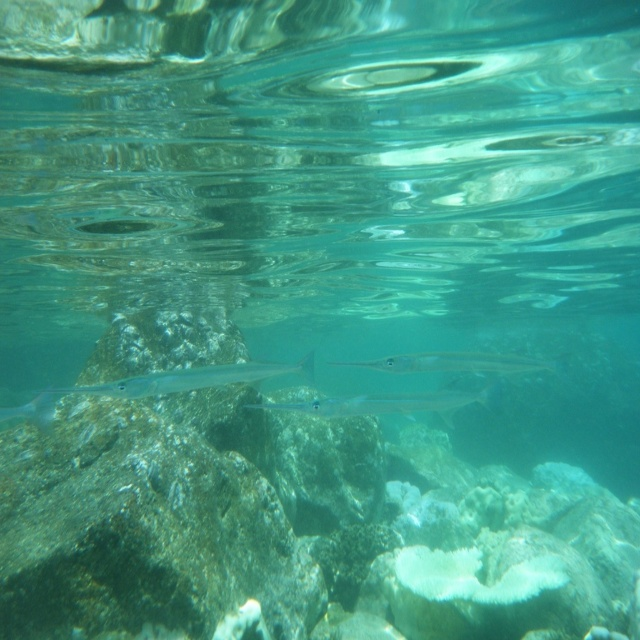Fish: (38, 353, 312, 404), (328, 351, 566, 383), (248, 389, 488, 415)
